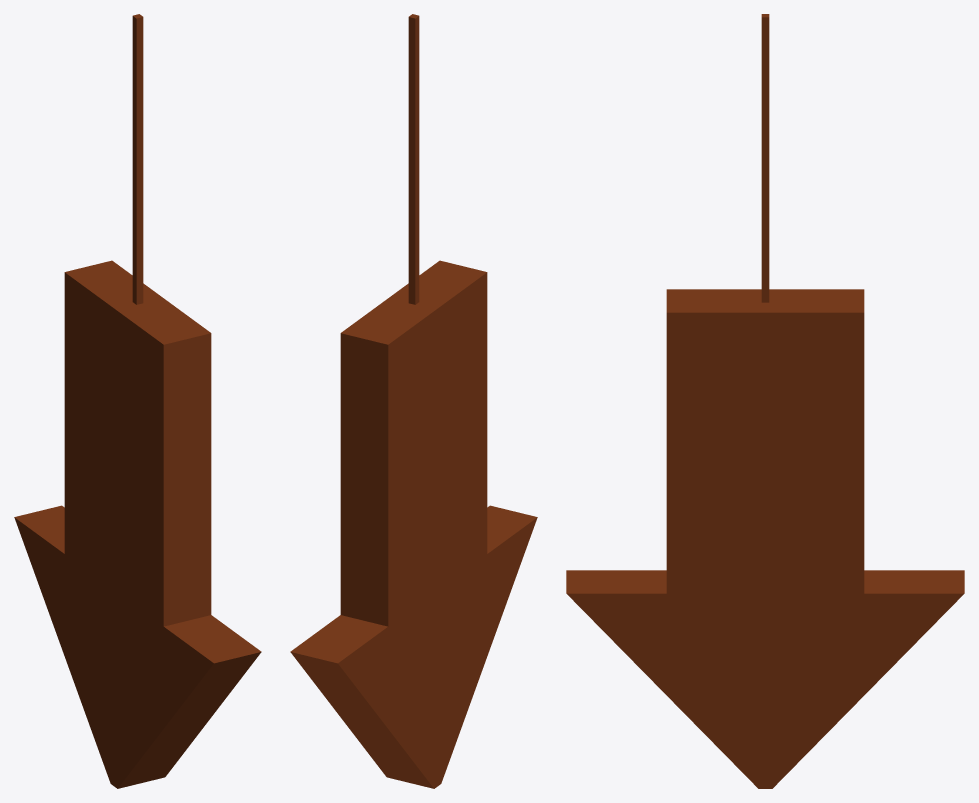
File: arrow.fbx
3 views of the same model, side by side, from view 1: azimuth 30°, elevation 25°; view 2: azimuth 150°, elevation 25°; view 3: azimuth 270°, elevation 25° (orthographic).
Parts seen in each view (by area): view 1: arrow; view 2: arrow; view 3: arrow.
Boxes of the visible parts, x1,y1,x2,y2 form: arrow: (14, 14, 261, 788); arrow: (290, 14, 537, 788); arrow: (566, 14, 964, 788).
Size of the model in its own units: 172 by 2645 by 1253.
